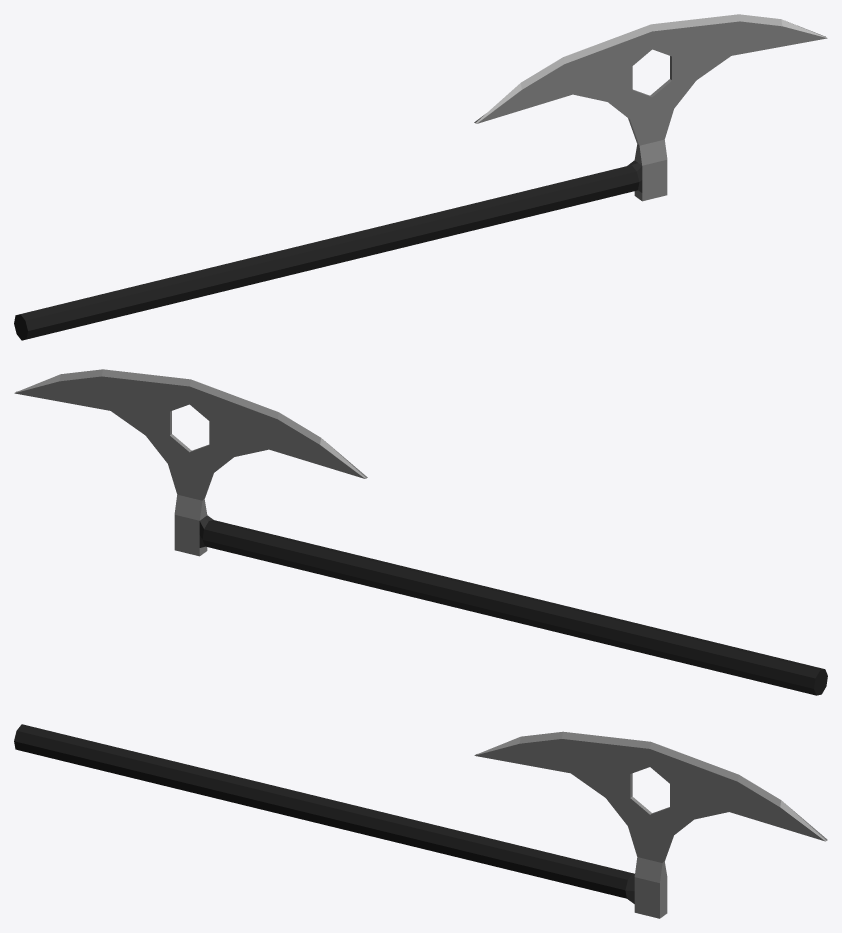
File: Battle_Axe_2.fbx
The picture shows the model from 3 angles, top to bottom: view 1: azimuth 30°, elevation 25°; view 2: azimuth 150°, elevation 25°; view 3: azimuth 330°, elevation 25°; orthographic projection.
Parts seen in each view (by area): view 1: Masakari_2; view 2: Masakari_2; view 3: Masakari_2.
Boxes of the visible parts, left/top/right/bottom form: Masakari_2: left=14, top=14, right=827, bottom=340; Masakari_2: left=14, top=369, right=827, bottom=695; Masakari_2: left=14, top=724, right=827, bottom=918.
Bounding box in the file's own units: 137 × 27.82 × 4.13.
